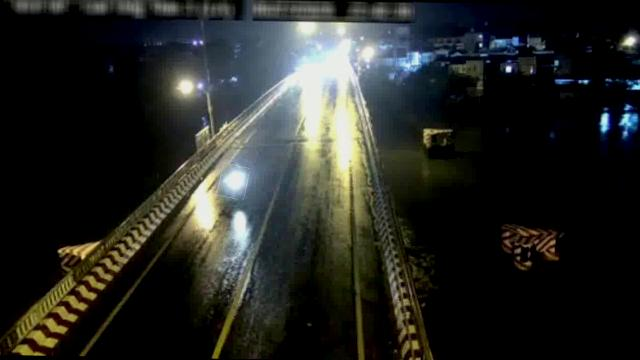Bike: (218, 164, 250, 199)
